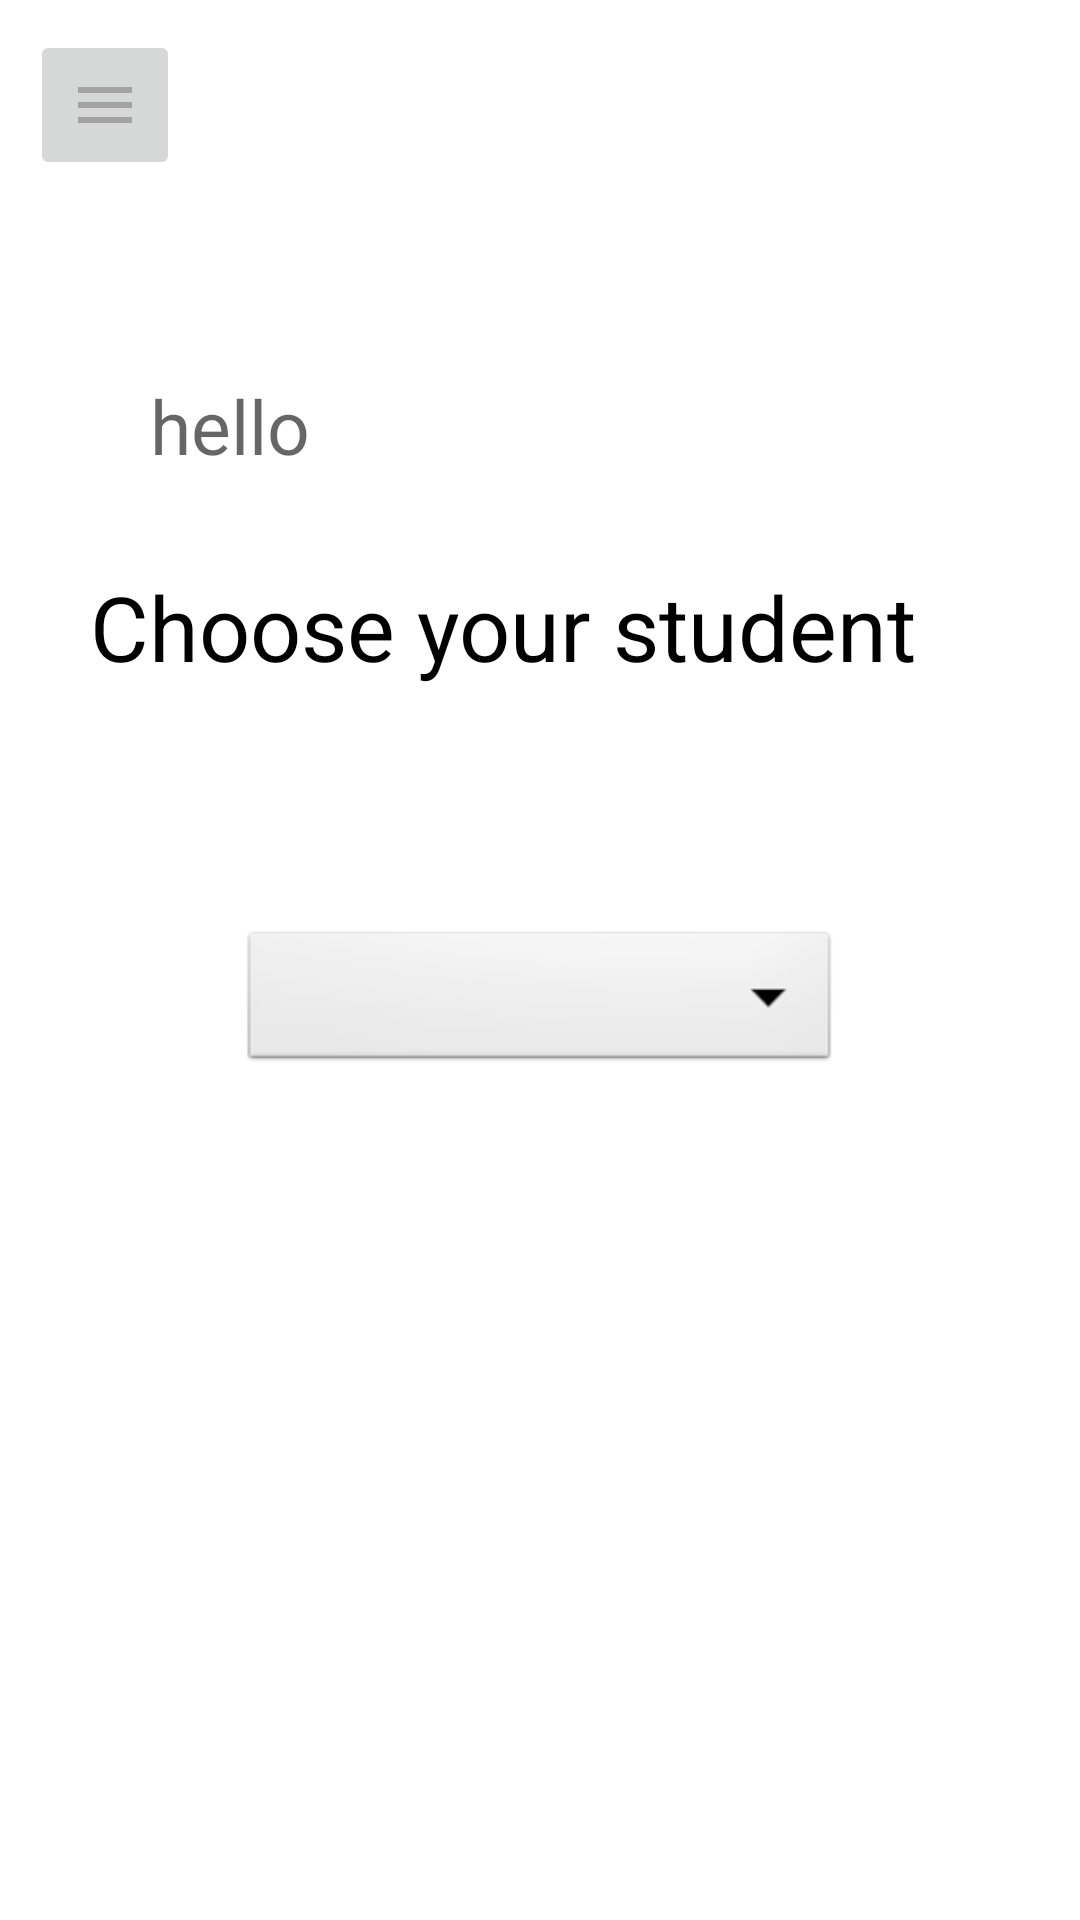

Screen size 1080*1920. Icon name, then its box in pixels as (x1, y1, x2, y2):
menu: (42, 48, 168, 162)
